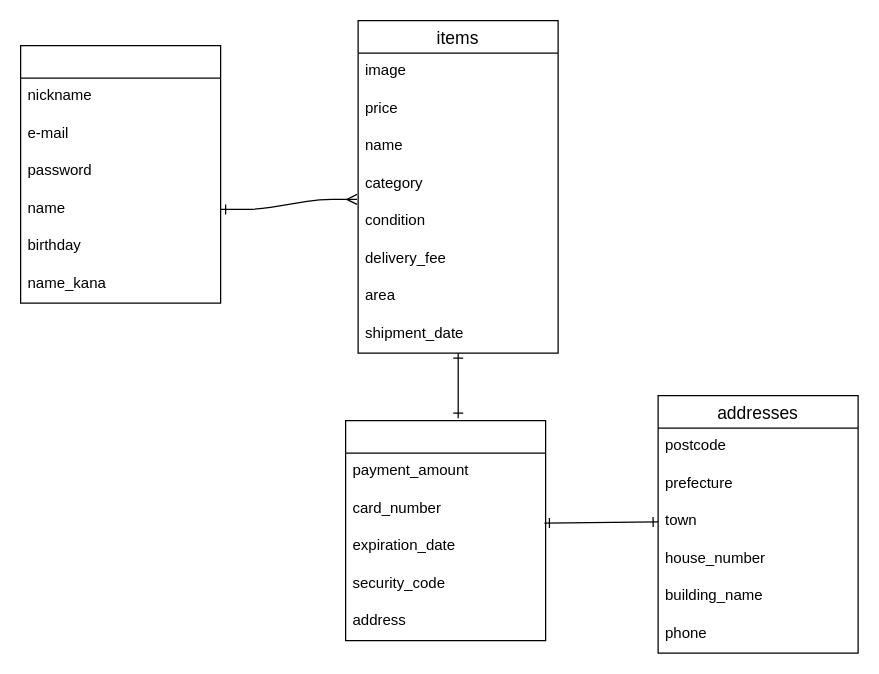
The diagram is 879 pixels wide and 674 high, and some of its shapes have lost their labels. The box of each missing label's shape, as (x1, y1, x2, y2) in pixels:
purchasings: (344, 419, 546, 641)
users: (19, 44, 221, 303)
